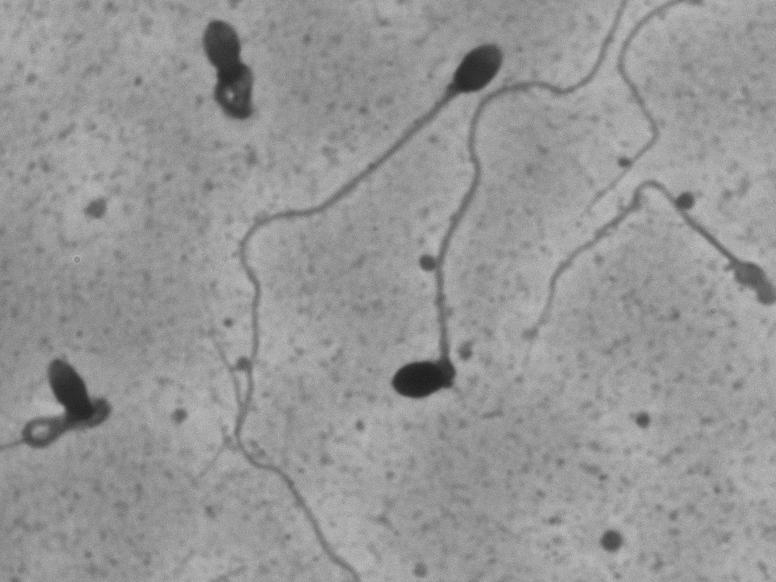Abnormal: (384, 165, 525, 469), (12, 306, 120, 486), (175, 8, 294, 148)
Normal: (163, 14, 542, 507)
